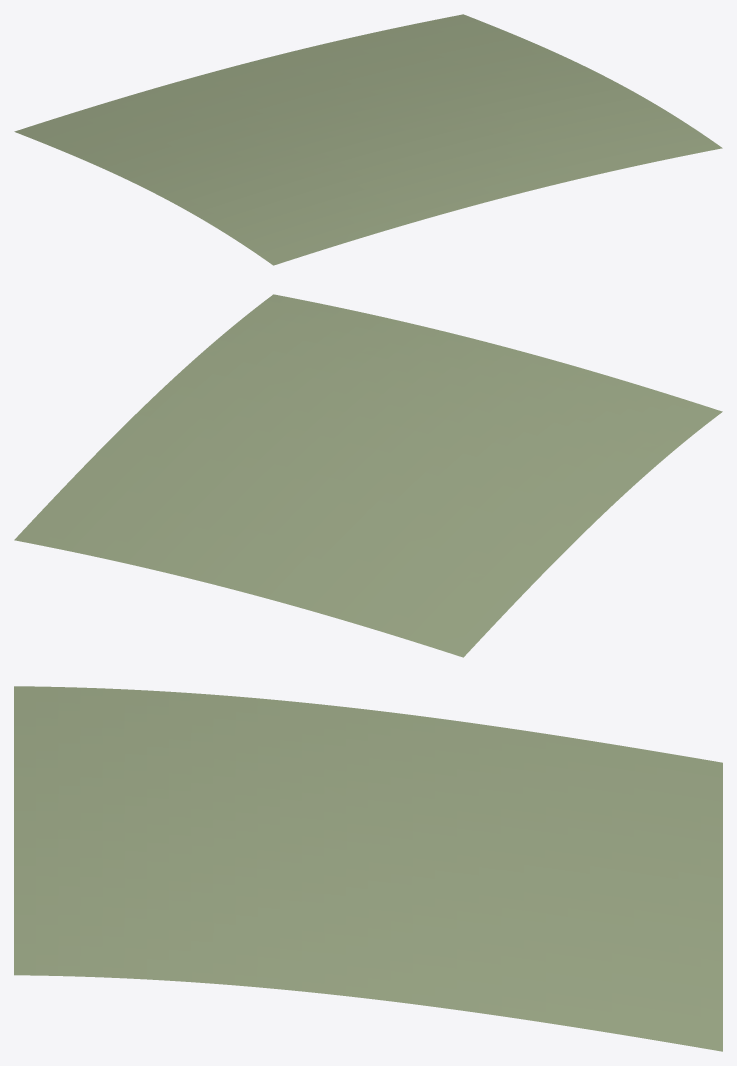
File: valley-6-14.glb
3 renders of one model, top to bottom at view 1: azimuth 30°, elevation 25°; view 2: azimuth 150°, elevation 25°; view 3: azimuth 270°, elevation 25°, orthographic. The views are drawn at different scales.
Visible parts, largest first — view 1: valley-6-14; view 2: valley-6-14; view 3: valley-6-14.
Part boxes in pixels (x1=…): valley-6-14: x1=14, y1=14, x2=722, y2=265; valley-6-14: x1=14, y1=294, x2=722, y2=657; valley-6-14: x1=14, y1=686, x2=722, y2=1051.
Size of the model in its own units: 256 by 37.16 by 256.
